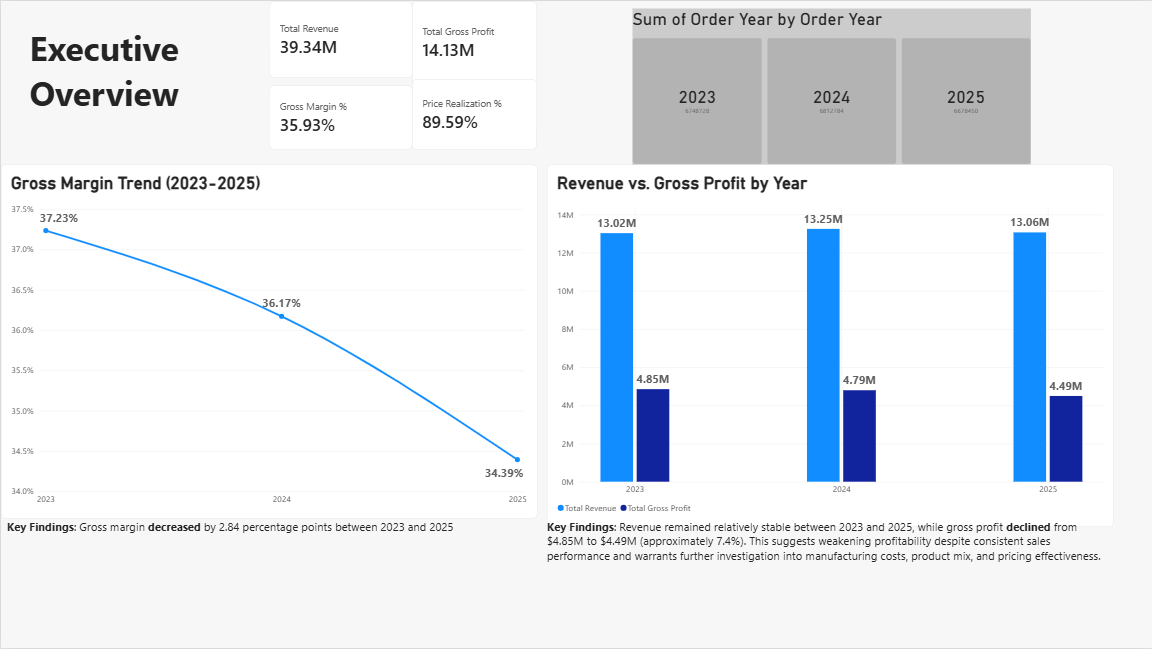

Layout of this report page (visuals, bound fields, positions):
{"tool":"powerbi","page":{"name":"Executive Overview","canvas":[1920,1080],"ordinal":0},"visuals":[{"type":"cardVisual","fields":{"Data":["orders.Total Revenue"]},"box":[447.5,0,237.5,130],"z":0},{"type":"textbox","box":[150,659,346,150],"z":2},{"type":"cardVisual","fields":{"Data":["orders.Total Gross Profit","orders.Total Gross Profit","orders.Gross Margin %"]},"box":[686,0,208,138],"z":3},{"type":"cardVisual","fields":{"Data":["orders.Price Realization %"]},"box":[686,130,208,118],"z":5},{"type":"lineChart","title":"Gross Margin Trend (2023-2025)","fields":{"Category":["orders.Order Year"],"Y":["orders.Gross Margin %"]},"box":[0,272,894,590],"z":6},{"type":"textbox","box":[10,862,900,82],"z":7},{"type":"clusteredColumnChart","title":"Revenue vs. Gross Profit by Year","fields":{"Category":["orders.Order Year"],"Y":["orders.Total Revenue","orders.Total Gross Profit"]},"box":[910,272,944,604],"z":8},{"type":"textbox","box":[910,862,944,164],"z":9},{"type":"cardVisual","fields":{"Data":["orders.Gross Margin %"]},"box":[447.5,130,237.5,117.5],"z":10},{"type":"advancedSlicerVisual","fields":{"Label":["Sum(orders.Order Year)"],"Values":["orders.Order Year"]},"box":[1052.5,12.5,664,260],"z":11},{"type":"textbox","box":[1718,0,150,260],"z":12},{"type":"textbox","box":[48,40,340,150],"z":13}]}

Visuals, with their boxes in screenshot pixels (x1, y1, x2, y2), scaled from the page's 1920x1080 canvas onto the 1152x649 screenshot:
cardVisual - orders.Total Revenue: [268,0,411,78]
textbox: [90,396,298,486]
cardVisual - orders.Total Gross Profit x orders.Total Gross Profit: [412,0,536,83]
cardVisual - orders.Price Realization %: [412,78,536,149]
"Gross Margin Trend (2023-2025)" lineChart: [0,163,536,518]
textbox: [6,518,546,567]
"Revenue vs. Gross Profit by Year" clusteredColumnChart: [546,163,1112,526]
textbox: [546,518,1112,617]
cardVisual - orders.Gross Margin %: [268,78,411,149]
advancedSlicerVisual - Sum(orders.Order Year) x orders.Order Year: [632,8,1030,164]
textbox: [1031,0,1121,156]
textbox: [29,24,233,114]
